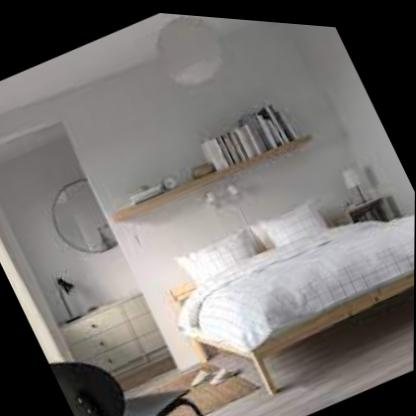Bed: (138, 126, 415, 416)
